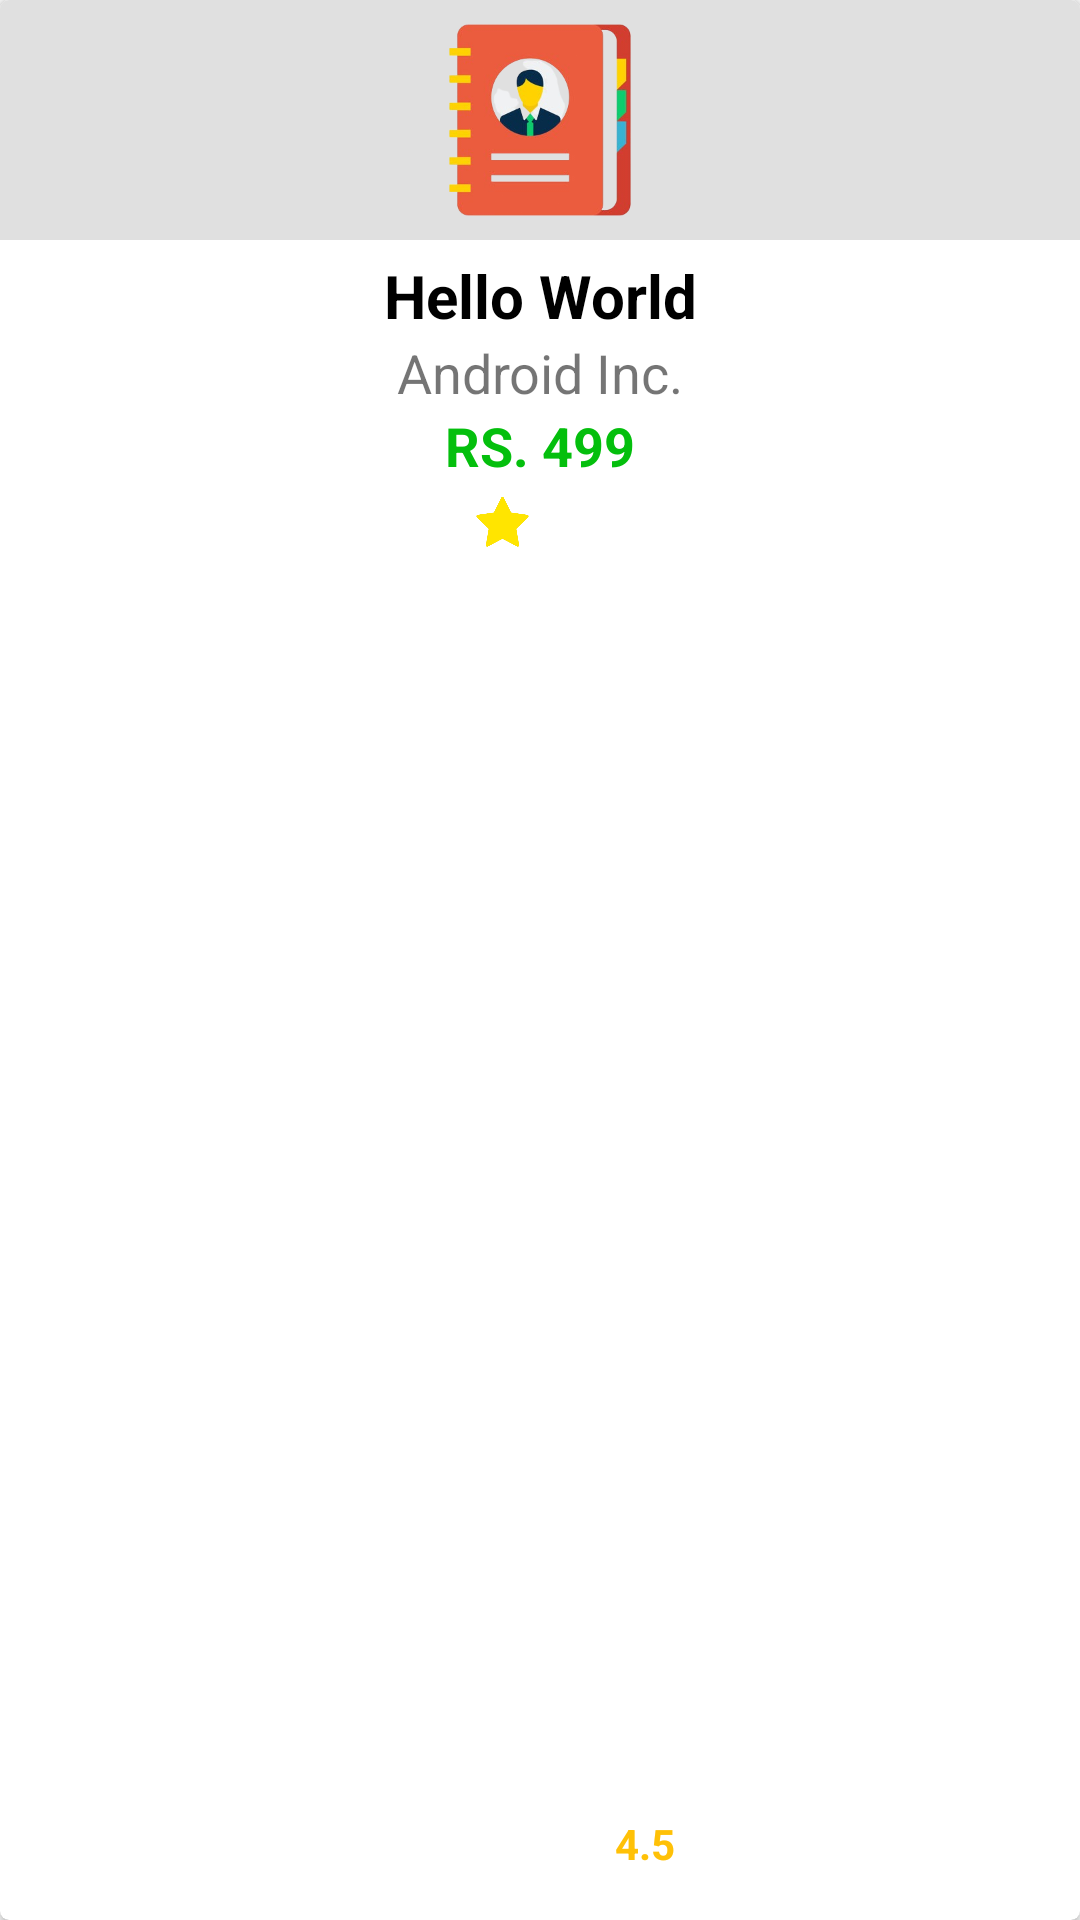

Locate icon controls on the screen. Image size 1080 x 1920, boxes as (x1, y1, x2, y2).
rating: (476, 497, 529, 547)
